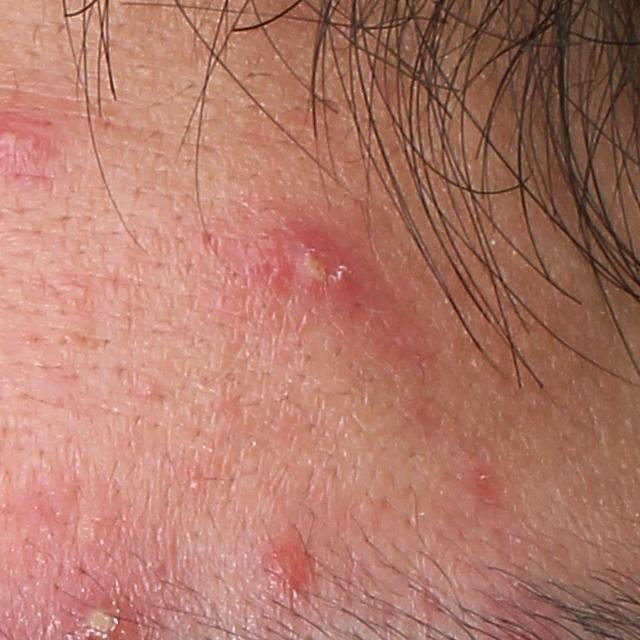comedo: (140, 380, 167, 407)
papule: (271, 536, 309, 590)
pustule: (273, 232, 358, 303)
